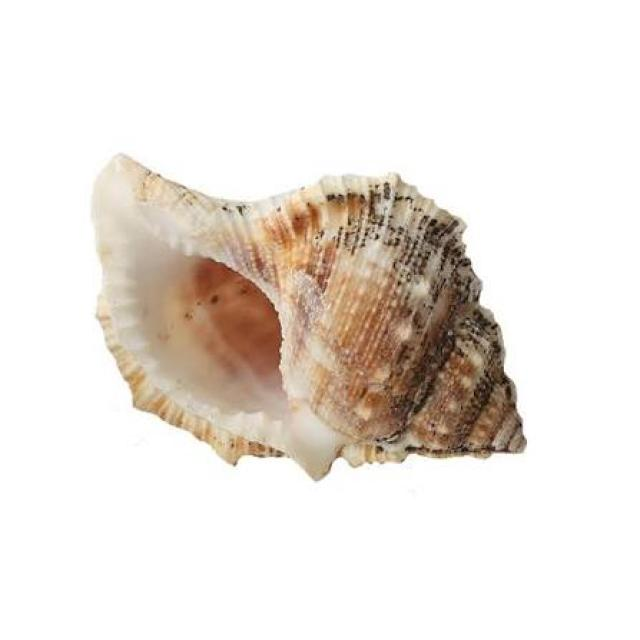spiny_top_shell: (70, 109, 560, 512)
